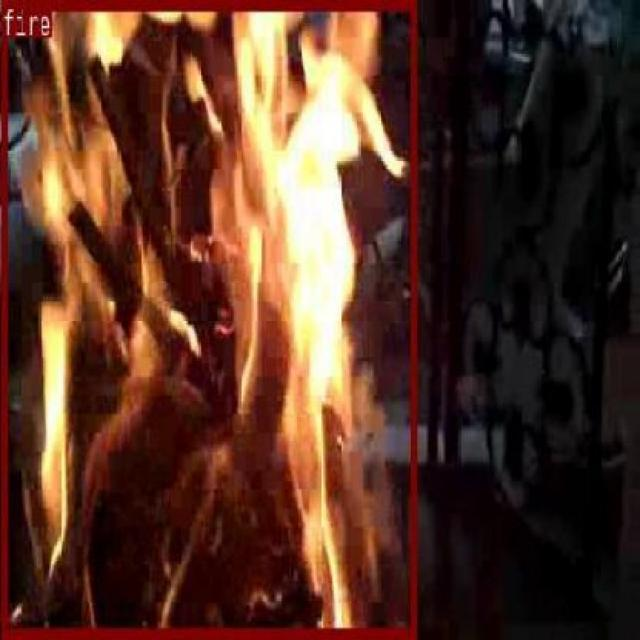Fire: (0, 0, 415, 635)
